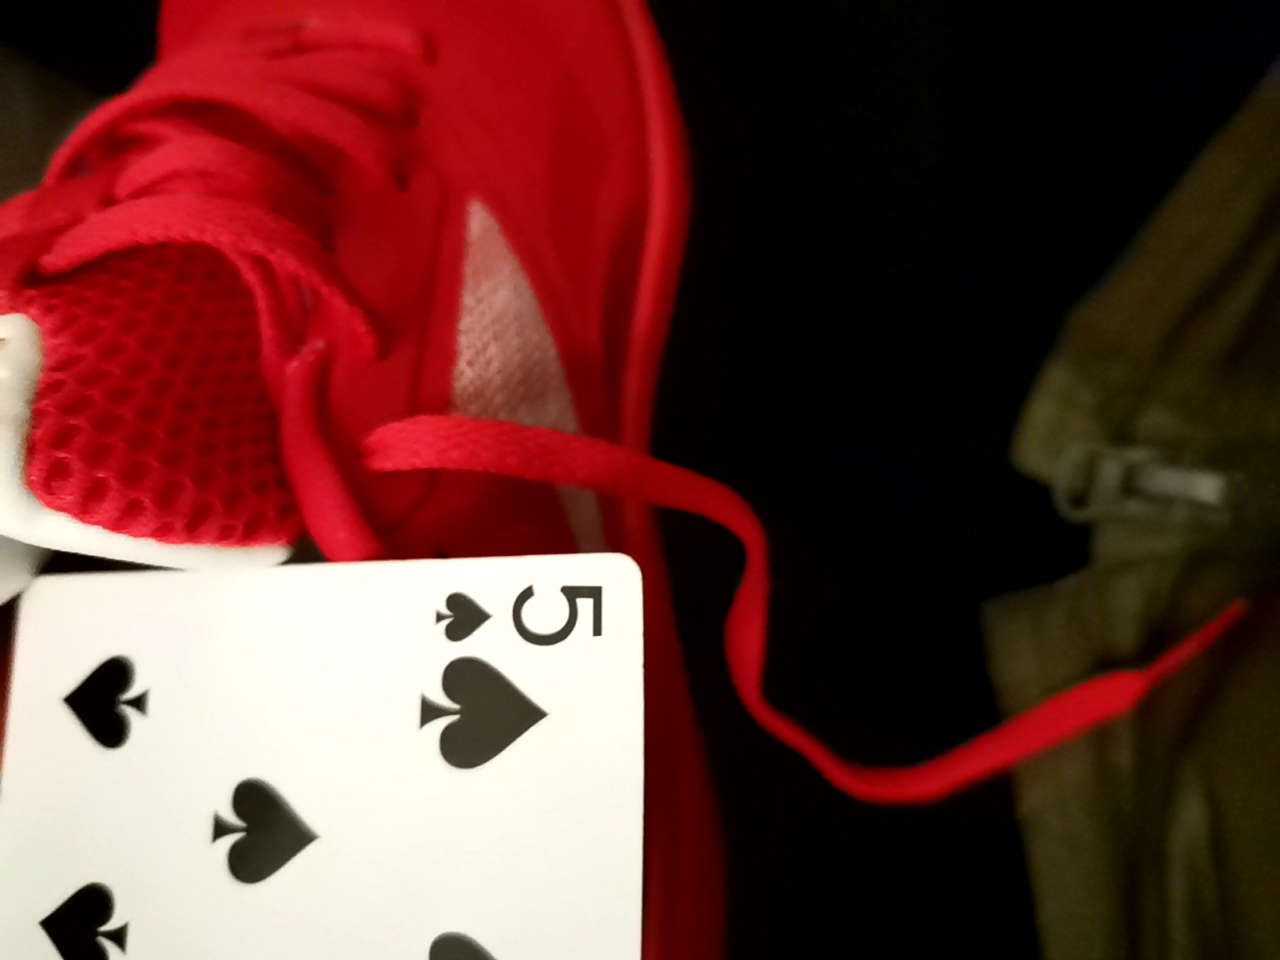ht 5: (8, 542, 675, 953)
